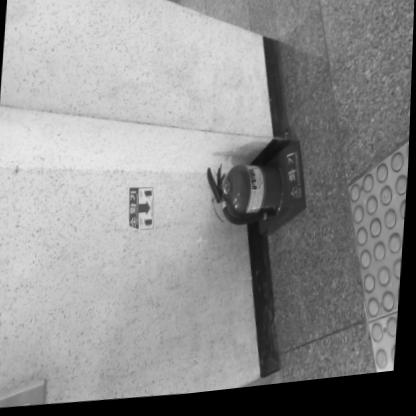FE: (203, 142, 313, 249)
